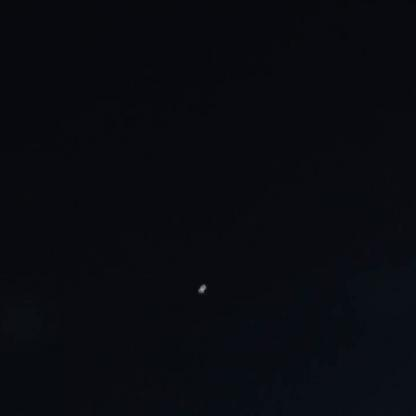ball: (194, 285, 206, 298), (198, 278, 209, 288)
